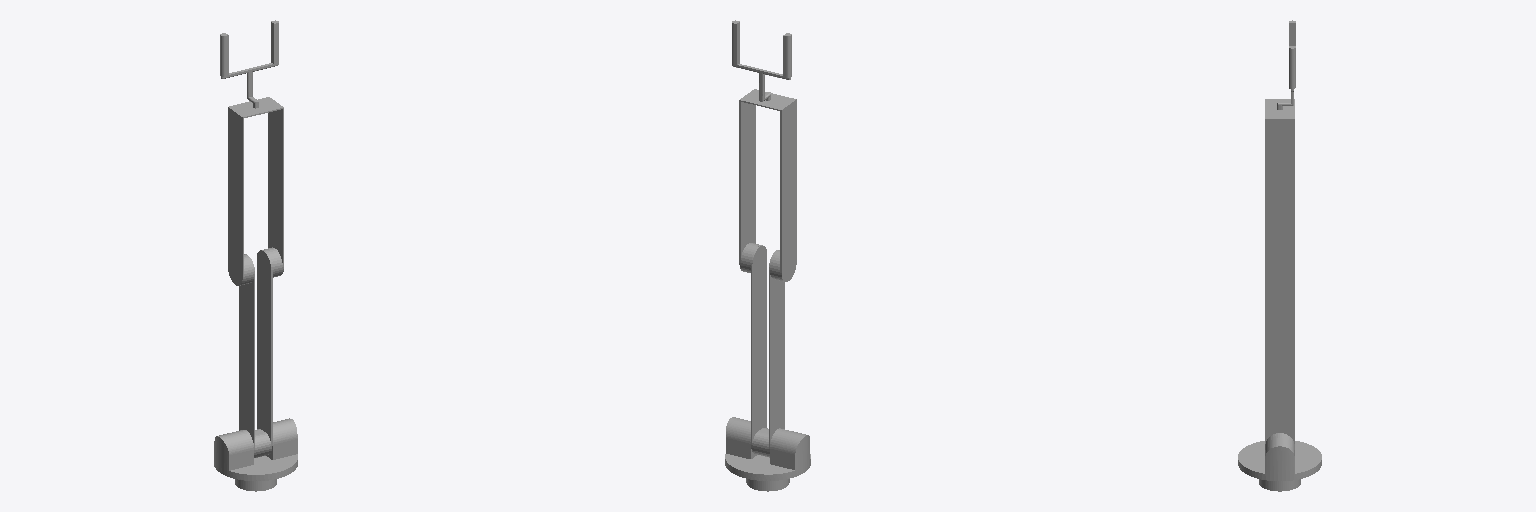
The robot description file, URDF, robot "arm":
<?xml version="1.0" ?>
<!-- =================================================================================== -->
<!-- |    This document was autogenerated by xacro from [local-path]/catkin_ws/src/arm_description/urdf/arm.xacro | -->
<!-- |    EDITING THIS FILE BY HAND IS NOT RECOMMENDED                                 | -->
<!-- =================================================================================== -->
<robot name="arm">
    <material name="silver">
        <color rgba="0.700 0.700 0.700 1.000" />
    </material>
    <transmission name="D1_tran">
        <type>transmission_interface/SimpleTransmission</type>
        <joint name="D1">
            <hardwareInterface>hardware_interface/EffortJointInterface</hardwareInterface>
        </joint>
        <actuator name="D1_actr">
            <hardwareInterface>hardware_interface/EffortJointInterface</hardwareInterface>
            <mechanicalReduction>1</mechanicalReduction>
        </actuator>
    </transmission>
    <transmission name="D2_tran">
        <type>transmission_interface/SimpleTransmission</type>
        <joint name="D2">
            <hardwareInterface>hardware_interface/EffortJointInterface</hardwareInterface>
        </joint>
        <actuator name="D2_actr">
            <hardwareInterface>hardware_interface/EffortJointInterface</hardwareInterface>
            <mechanicalReduction>1</mechanicalReduction>
        </actuator>
    </transmission>
    <transmission name="D3_tran">
        <type>transmission_interface/SimpleTransmission</type>
        <joint name="D3">
            <hardwareInterface>hardware_interface/EffortJointInterface</hardwareInterface>
        </joint>
        <actuator name="D3_actr">
            <hardwareInterface>hardware_interface/EffortJointInterface</hardwareInterface>
            <mechanicalReduction>1</mechanicalReduction>
        </actuator>
    </transmission>
    <transmission name="D4_tran">
        <type>transmission_interface/SimpleTransmission</type>
        <joint name="D4">
            <hardwareInterface>hardware_interface/EffortJointInterface</hardwareInterface>
        </joint>
        <actuator name="D4_actr">
            <hardwareInterface>hardware_interface/EffortJointInterface</hardwareInterface>
            <mechanicalReduction>1</mechanicalReduction>
        </actuator>
    </transmission>
    <transmission name="Slider_5_tran">
        <type>transmission_interface/SimpleTransmission</type>
        <joint name="Slider_5">
            <hardwareInterface>hardware_interface/EffortJointInterface</hardwareInterface>
        </joint>
        <actuator name="Slider_5_actr">
            <hardwareInterface>hardware_interface/EffortJointInterface</hardwareInterface>
            <mechanicalReduction>1</mechanicalReduction>
        </actuator>
    </transmission>
    <transmission name="Slider_6_tran">
        <type>transmission_interface/SimpleTransmission</type>
        <joint name="Slider_6">
            <hardwareInterface>hardware_interface/EffortJointInterface</hardwareInterface>
        </joint>
        <actuator name="Slider_6_actr">
            <hardwareInterface>hardware_interface/EffortJointInterface</hardwareInterface>
            <mechanicalReduction>1</mechanicalReduction>
        </actuator>
    </transmission>
    <gazebo>
        <plugin filename="libgazebo_ros_control.so" name="control" />
        <plugin name="gazebo_ros_control">
            <robotNamespace>/</robotNamespace>
        </plugin>
    </gazebo>
    <gazebo reference="base_link">
        <material>Gazebo/Silver</material>
        <mu1>0.2</mu1>
        <mu2>0.2</mu2>
        <selfCollide>true</selfCollide>
        <gravity>true</gravity>
    </gazebo>
    <gazebo reference="Platform_1">
        <material>Gazebo/Silver</material>
        <mu1>0.2</mu1>
        <mu2>0.2</mu2>
        <selfCollide>true</selfCollide>
    </gazebo>
    <gazebo reference="D2_1">
        <material>Gazebo/Silver</material>
        <mu1>0.2</mu1>
        <mu2>0.2</mu2>
        <selfCollide>true</selfCollide>
    </gazebo>
    <gazebo reference="D3_1">
        <material>Gazebo/Silver</material>
        <mu1>0.2</mu1>
        <mu2>0.2</mu2>
        <selfCollide>true</selfCollide>
    </gazebo>
    <gazebo reference="D4_1">
        <material>Gazebo/Silver</material>
        <mu1>0.2</mu1>
        <mu2>0.2</mu2>
        <selfCollide>true</selfCollide>
    </gazebo>
    <gazebo reference="Finger_1_1">
        <material>Gazebo/Silver</material>
        <mu1>0.2</mu1>
        <mu2>0.2</mu2>
        <selfCollide>true</selfCollide>
    </gazebo>
    <gazebo reference="Finger_2_1">
        <material>Gazebo/Silver</material>
        <mu1>0.2</mu1>
        <mu2>0.2</mu2>
        <selfCollide>true</selfCollide>
    </gazebo>
    <link name="base_link">
        <inertial>
            <origin rpy="0 0 0" xyz="0.0 0.0 0.0125" />
            <mass value="0.5548838024402973" />
            <inertia ixx="0.000154" ixy="-0.0" ixz="0.0" iyy="0.000154" iyz="0.0" izz="0.00025" />
        </inertial>
        <visual>
            <origin rpy="0 0 0" xyz="0 0 0" />
            <geometry>
                <mesh filename="package://arm_description/meshes/base_link.stl" scale="0.001 0.001 0.001" />
            </geometry>
            <material name="silver" />
        </visual>
        <collision>
            <origin rpy="0 0 0" xyz="0 0 0" />
            <geometry>
                <mesh filename="package://arm_description/meshes/base_link.stl" scale="0.001 0.001 0.001" />
            </geometry>
        </collision>
    </link>
    <link name="Platform_1">
        <inertial>
            <origin rpy="0 0 0" xyz="1.2106877832099407e-14 8.586438178793906e-18 0.024342559907098243" />
            <mass value="2.0787238143023408" />
            <inertia ixx="0.00147" ixy="-0.0" ixz="0.0" iyy="0.003108" iyz="0.0" izz="0.003539" />
        </inertial>
        <visual>
            <origin rpy="0 0 0" xyz="-0.0 -0.0 -0.025" />
            <geometry>
                <mesh filename="package://arm_description/meshes/Platform_1.stl" scale="0.001 0.001 0.001" />
            </geometry>
            <material name="silver" />
        </visual>
        <collision>
            <origin rpy="0 0 0" xyz="-0.0 -0.0 -0.025" />
            <geometry>
                <mesh filename="package://arm_description/meshes/Platform_1.stl" scale="0.001 0.001 0.001" />
            </geometry>
        </collision>
    </link>
    <link name="D2_1">
        <inertial>
            <origin rpy="0 0 0" xyz="0.015 0.0 0.08469568327292498" />
            <mass value="0.6577489881478827" />
            <inertia ixx="0.006402" ixy="-0.0" ixz="-0.0" iyy="0.006409" iyz="-0.0" izz="0.000181" />
        </inertial>
        <visual>
            <origin rpy="0 0 0" xyz="0.015 -0.0 -0.0625" />
            <geometry>
                <mesh filename="package://arm_description/meshes/D2_1.stl" scale="0.001 0.001 0.001" />
            </geometry>
            <material name="silver" />
        </visual>
        <collision>
            <origin rpy="0 0 0" xyz="0.015 -0.0 -0.0625" />
            <geometry>
                <mesh filename="package://arm_description/meshes/D2_1.stl" scale="0.001 0.001 0.001" />
            </geometry>
        </collision>
    </link>
    <link name="D3_1">
        <inertial>
            <origin rpy="0 0 0" xyz="0.014999999999999958 -1.1804267164782249e-17 0.06749406762008453" />
            <mass value="0.7634276110018746" />
            <inertia ixx="0.006149" ixy="-0.0" ixz="-0.0" iyy="0.006661" iyz="-0.0" izz="0.000708" />
        </inertial>
        <visual>
            <origin rpy="0 0 0" xyz="0.015 0.0 -0.3385" />
            <geometry>
                <mesh filename="package://arm_description/meshes/D3_1.stl" scale="0.001 0.001 0.001" />
            </geometry>
            <material name="silver" />
        </visual>
        <collision>
            <origin rpy="0 0 0" xyz="0.015 0.0 -0.3385" />
            <geometry>
                <mesh filename="package://arm_description/meshes/D3_1.stl" scale="0.001 0.001 0.001" />
            </geometry>
        </collision>
    </link>
    <link name="D4_1">
        <inertial>
            <origin rpy="0 0 0" xyz="9.723077481125942e-17 0.01461192581321165 0.03300377103466645" />
            <mass value="0.03728803268567669" />
            <inertia ixx="1.5e-05" ixy="0.0" ixz="0.0" iyy="2.6e-05" iyz="-3e-06" izz="1.4e-05" />
        </inertial>
        <visual>
            <origin rpy="0 0 0" xyz="-0.0 -0.0 -0.5885" />
            <geometry>
                <mesh filename="package://arm_description/meshes/D4_1.stl" scale="0.001 0.001 0.001" />
            </geometry>
            <material name="silver" />
        </visual>
        <collision>
            <origin rpy="0 0 0" xyz="-0.0 -0.0 -0.5885" />
            <geometry>
                <mesh filename="package://arm_description/meshes/D4_1.stl" scale="0.001 0.001 0.001" />
            </geometry>
        </collision>
    </link>
    <link name="Finger_1_1">
        <inertial>
            <origin rpy="0 0 0" xyz="-0.005466749294592968 -6.938893903907228e-18 0.03199999999999992" />
            <mass value="0.044849201864543935" />
            <inertia ixx="1.6e-05" ixy="-0.0" ixz="0.0" iyy="1.6e-05" iyz="-0.0" izz="1e-06" />
        </inertial>
        <visual>
            <origin rpy="0 0 0" xyz="-0.0475 -0.0175 -0.641" />
            <geometry>
                <mesh filename="package://arm_description/meshes/Finger_1_1.stl" scale="0.001 0.001 0.001" />
            </geometry>
            <material name="silver" />
        </visual>
        <collision>
            <origin rpy="0 0 0" xyz="-0.0475 -0.0175 -0.641" />
            <geometry>
                <mesh filename="package://arm_description/meshes/Finger_1_1.stl" scale="0.001 0.001 0.001" />
            </geometry>
        </collision>
    </link>
    <link name="Finger_2_1">
        <inertial>
            <origin rpy="0 0 0" xyz="0.005466749294592975 -6.938893903907228e-18 0.03199999999999992" />
            <mass value="0.044849201864543935" />
            <inertia ixx="1.6e-05" ixy="0.0" ixz="0.0" iyy="1.6e-05" iyz="-0.0" izz="1e-06" />
        </inertial>
        <visual>
            <origin rpy="0 0 0" xyz="0.0475 -0.0175 -0.641" />
            <geometry>
                <mesh filename="package://arm_description/meshes/Finger_2_1.stl" scale="0.001 0.001 0.001" />
            </geometry>
            <material name="silver" />
        </visual>
        <collision>
            <origin rpy="0 0 0" xyz="0.0475 -0.0175 -0.641" />
            <geometry>
                <mesh filename="package://arm_description/meshes/Finger_2_1.stl" scale="0.001 0.001 0.001" />
            </geometry>
        </collision>
    </link>
    <joint name="D1" type="continuous">
        <origin rpy="0 0 0" xyz="0.0 0.0 0.025" />
        <parent link="base_link" />
        <child link="Platform_1" />
        <axis xyz="0.0 0.0 1.0" />
    </joint>
    <joint name="D2" type="continuous">
        <origin rpy="0 0 0" xyz="-0.015 0.0 0.0375" />
        <parent link="Platform_1" />
        <child link="D2_1" />
        <axis xyz="1.0 0.0 0.0" />
    </joint>
    <joint name="D3" type="continuous">
        <origin rpy="0 0 0" xyz="0.0 -0.0 0.276" />
        <parent link="D2_1" />
        <child link="D3_1" />
        <axis xyz="-1.0 0.0 0.0" />
    </joint>
    <joint name="D4" type="continuous">
        <origin rpy="0 0 0" xyz="0.015 0.0 0.25" />
        <parent link="D3_1" />
        <child link="D4_1" />
        <axis xyz="0.0 0.0 1.0" />
    </joint>
    <joint name="Slider_5" type="prismatic">
        <origin rpy="0 0 0" xyz="0.0475 0.0175 0.0525" />
        <parent link="D4_1" />
        <child link="Finger_1_1" />
        <axis xyz="1.0 0.0 0.0" />
        <limit effort="100" lower="0.0" upper="0.0" velocity="100" />
    </joint>
    <joint name="Slider_6" type="prismatic">
        <origin rpy="0 0 0" xyz="-0.0475 0.0175 0.0525" />
        <parent link="D4_1" />
        <child link="Finger_2_1" />
        <axis xyz="1.0 0.0 0.0" />
        <limit effort="100" lower="0.0" upper="0.0" velocity="100" />
    </joint>
</robot>

--- Facts derived from the render (not from the file) ---
The picture shows the robot from 3 angles, left to right: view 1: azimuth 30°, elevation 25°; view 2: azimuth 150°, elevation 25°; view 3: azimuth 270°, elevation 25°; orthographic projection.
Robot: arm — 7 links, 6 joints (4 continuous, 2 prismatic); root link base_link; default pose: all joints at 0.
Links seen in each view (by area): view 1: D3_1, D2_1, Platform_1; view 2: D3_1, D2_1, Platform_1; view 3: D3_1, D2_1, Platform_1.
Link boxes in pixels (left/top/right/bottom): D3_1: left=228, top=97, right=283, bottom=285; D2_1: left=239, top=250, right=272, bottom=457; Platform_1: left=214, top=418, right=297, bottom=480; D3_1: left=739, top=89, right=796, bottom=281; D2_1: left=751, top=245, right=784, bottom=457; Platform_1: left=725, top=417, right=810, bottom=480; D3_1: left=1265, top=99, right=1294, bottom=290; D2_1: left=1265, top=280, right=1294, bottom=443; Platform_1: left=1238, top=433, right=1321, bottom=480.
Size in the robot's own frame: 0.12 by 0.12 by 0.705 metres.
7 mesh visuals loaded from 7 distinct referenced files (7 binary STL).